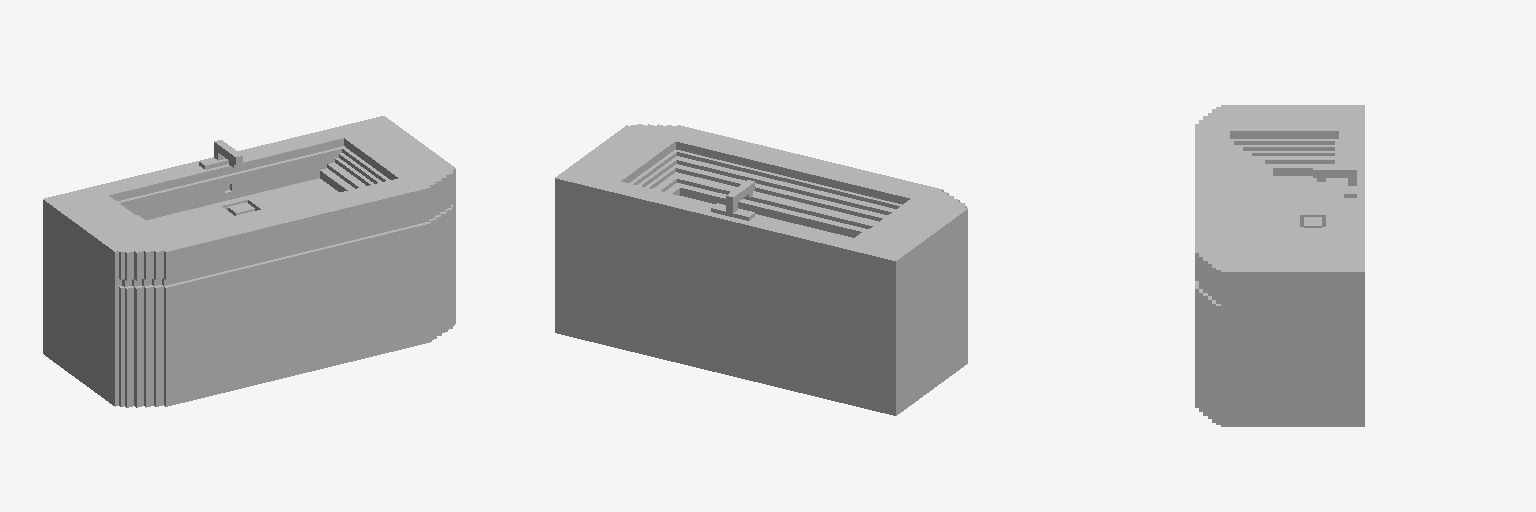
Rendered from Washstand.obj.
3 views of the same model, side by side, from view 1: azimuth 30°, elevation 25°; view 2: azimuth 150°, elevation 25°; view 3: azimuth 270°, elevation 25° (orthographic).
Visible parts, largest first — view 1: Washstand; view 2: Washstand; view 3: Washstand.
Boxes of the visible parts, <box> form: Washstand: <box>43,116,455,407</box>; Washstand: <box>555,124,967,415</box>; Washstand: <box>1195,105,1364,426</box>.
Size of the model in its own units: 90 by 44 by 39.